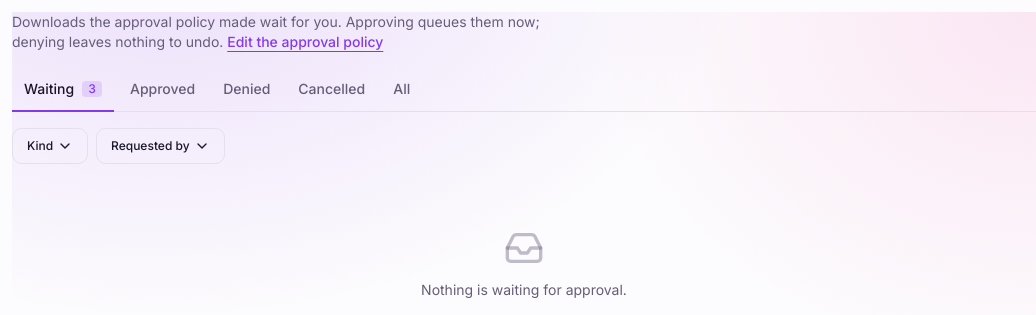
Scenario: Administration › Requests: the list › says when nothing waits, and when a filter matches nothing
The width and height of the screenshot is (1036, 315).
Check: the text "Nothing is waiting for approval." is shown, box [421,281,627,298]
Step 1. Click the button "Denied" → [247, 90], box [211,68,282,112]
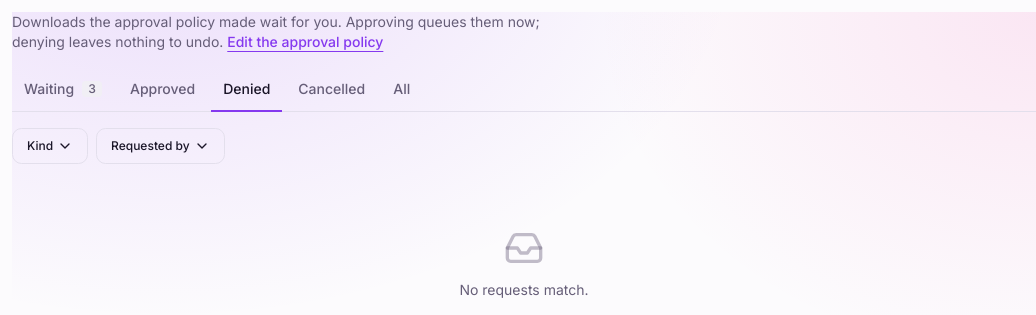
Check: the text "No requests match." is shown, box [459,281,588,298]
